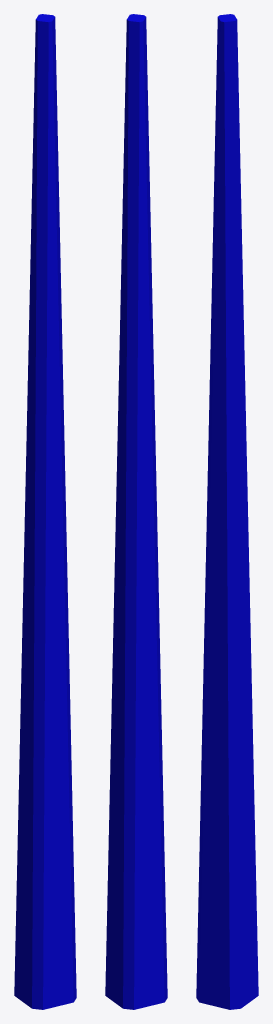
File: bacchetta_singola.fbx
The picture shows the model from 3 angles, left to right: view 1: azimuth 30°, elevation 25°; view 2: azimuth 210°, elevation 25°; view 3: azimuth 330°, elevation 25°; orthographic projection.
Parts seen in each view (by area): view 1: bacchetta_singola; view 2: bacchetta_singola; view 3: bacchetta_singola.
Boxes of the visible parts, x1,y1,x2,y2 form: bacchetta_singola: (14,14,76,1009); bacchetta_singola: (105,14,167,1009); bacchetta_singola: (196,14,258,1009).
Size of the model in its own units: 1.17 by 24.52 by 1.17.
